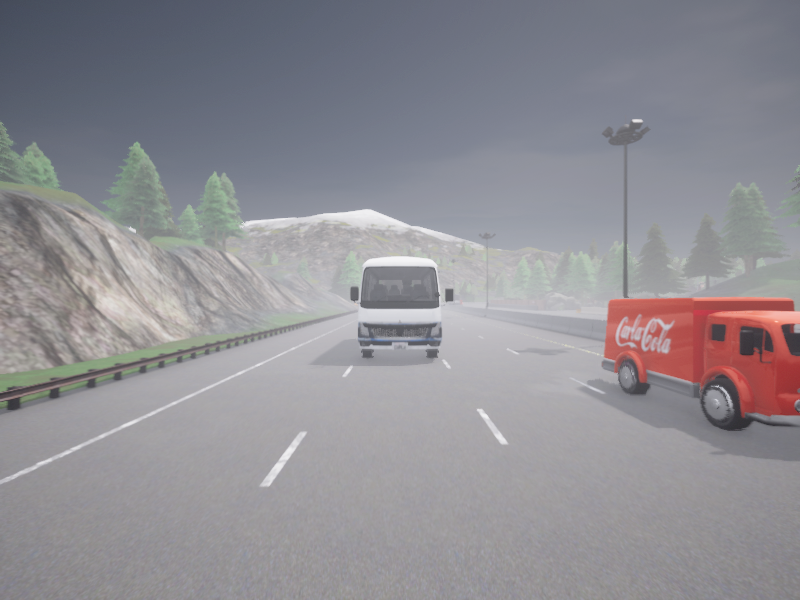vehicle: (602, 297, 799, 429), (350, 257, 453, 358), (447, 294, 459, 305), (460, 300, 462, 305)
